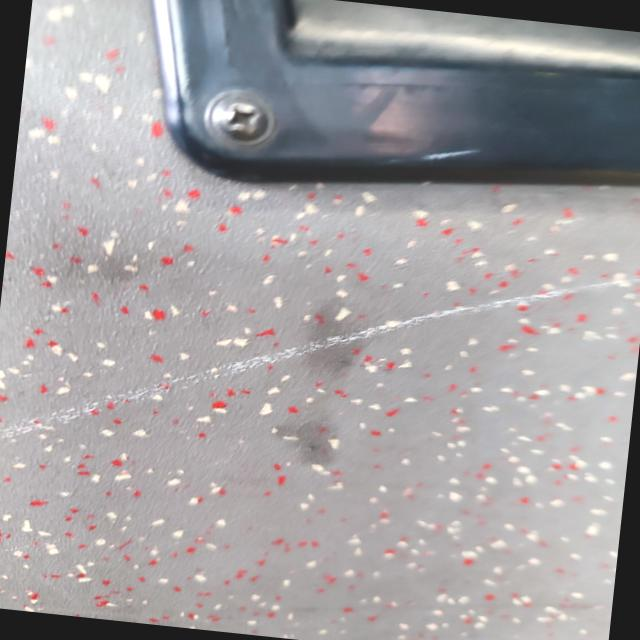Phillips: (209, 96, 275, 142)
